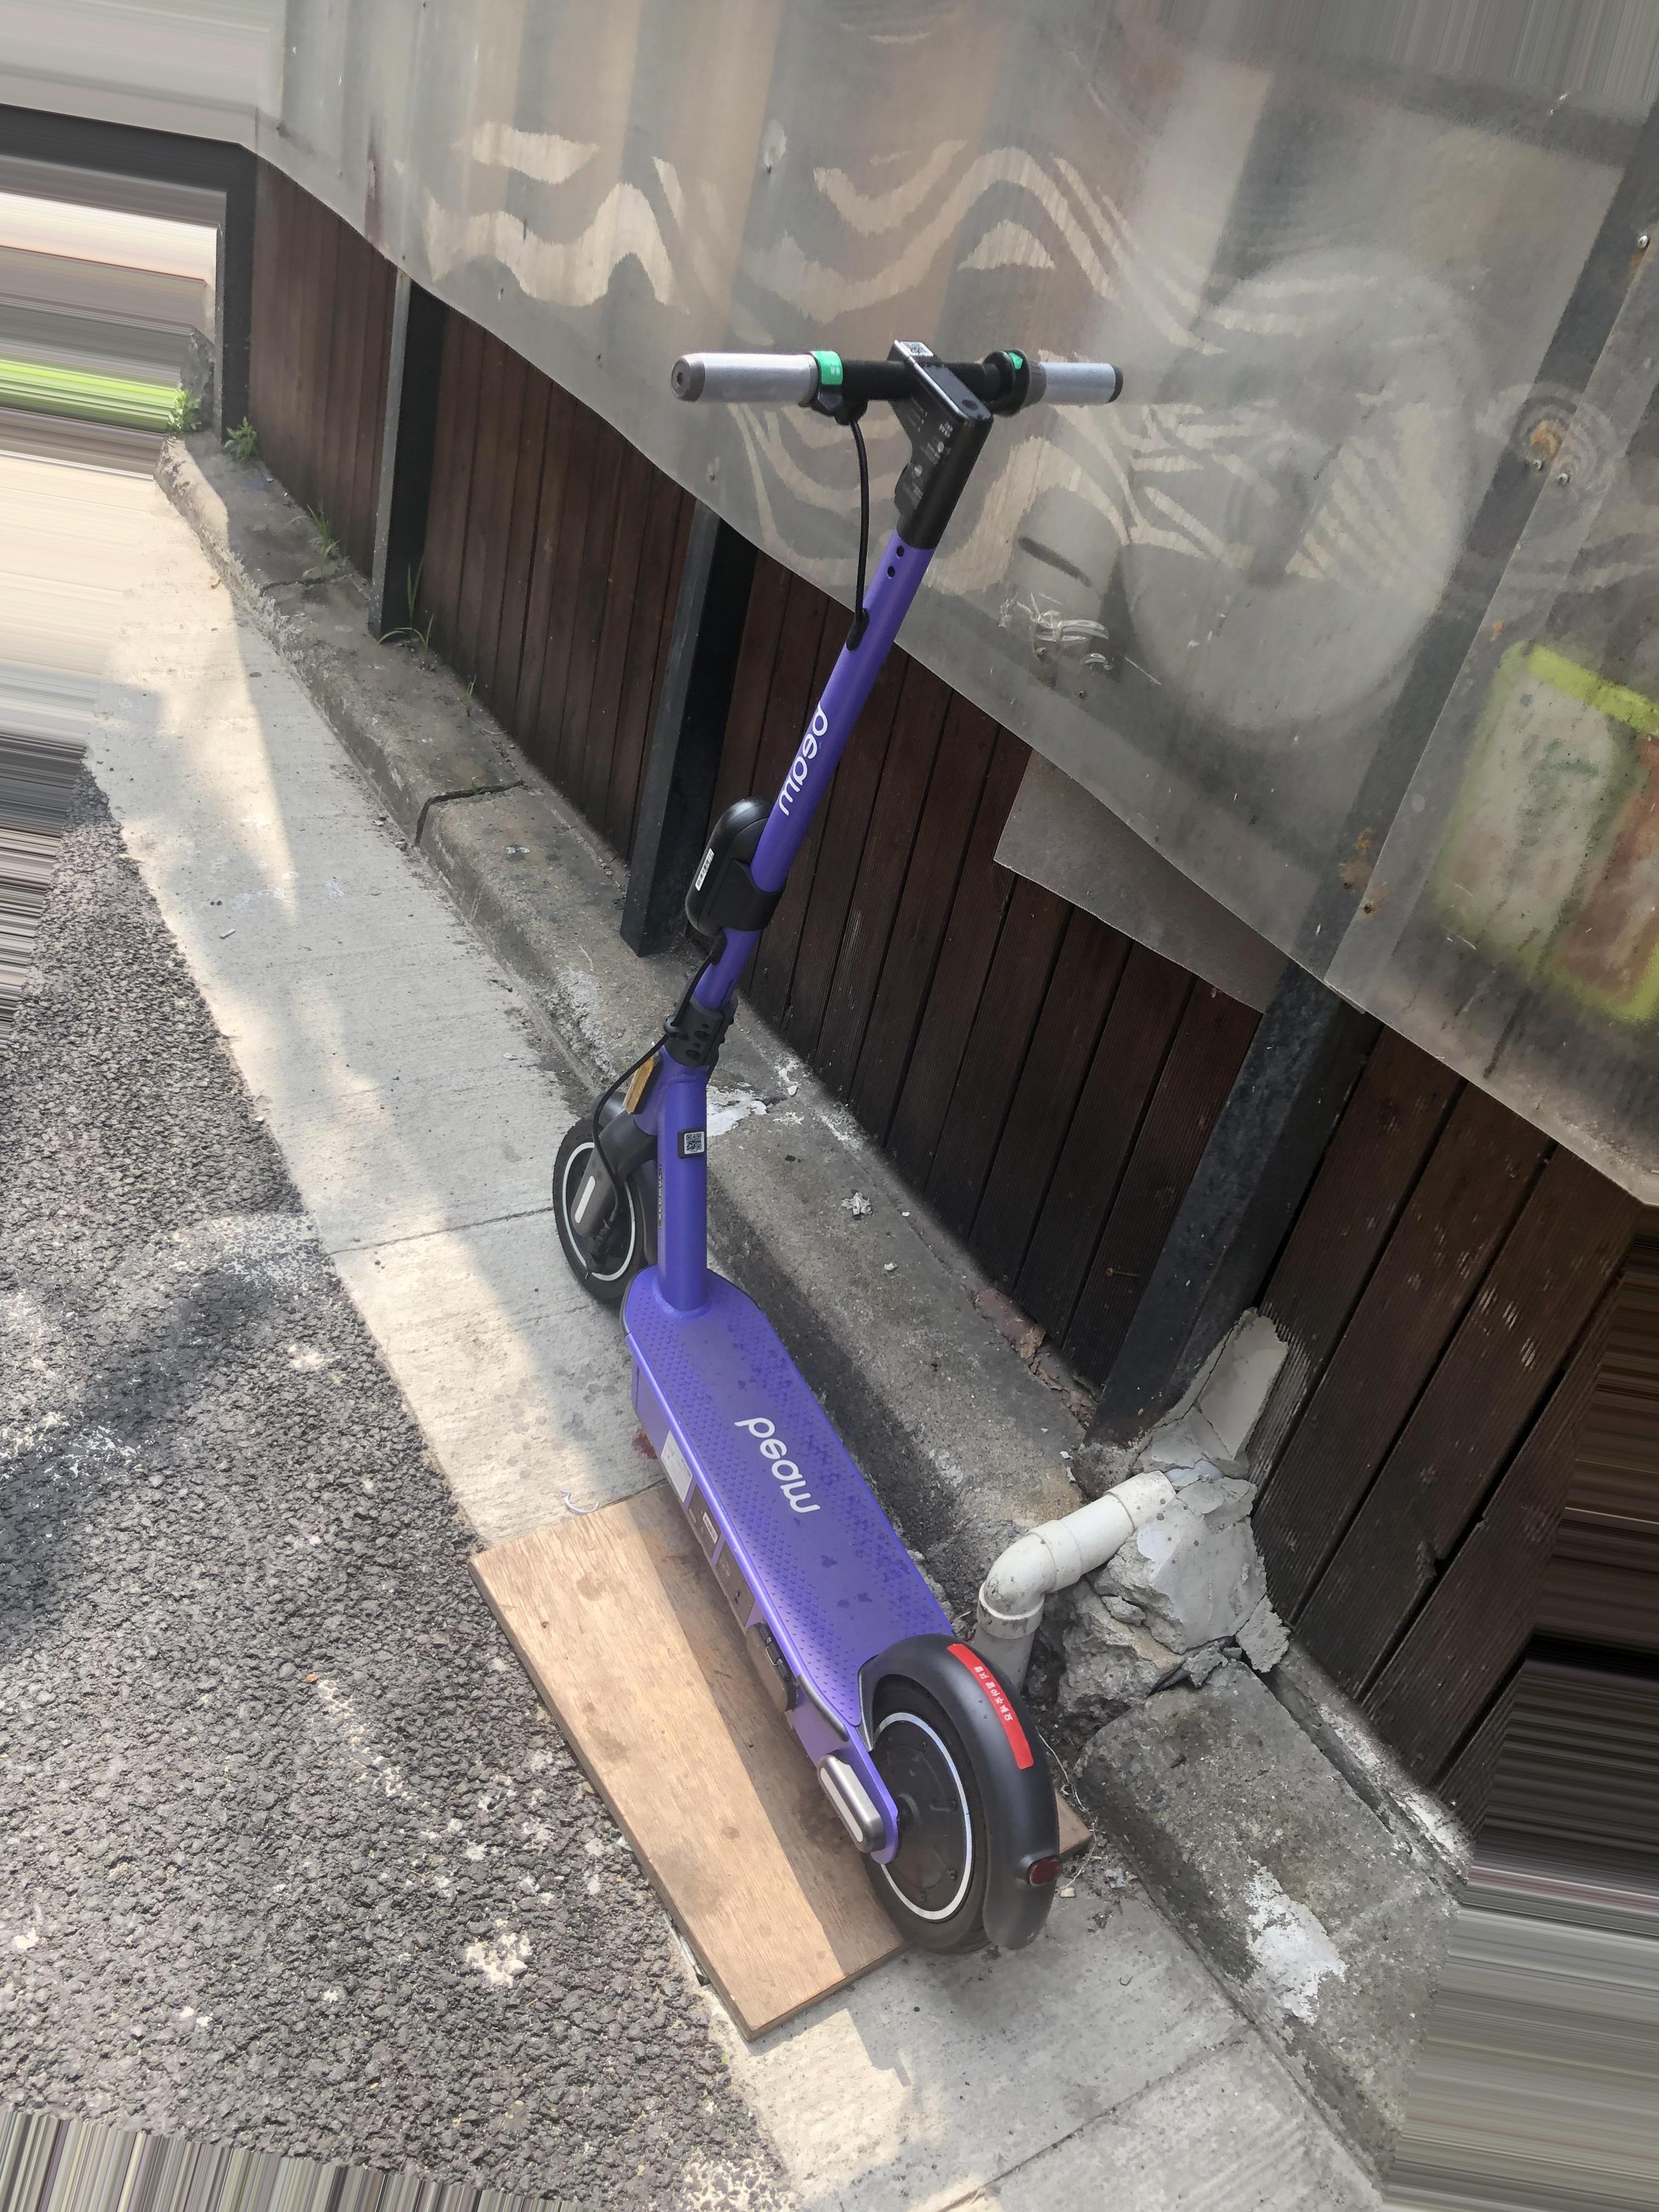scooter: (552, 345, 1124, 1942)
